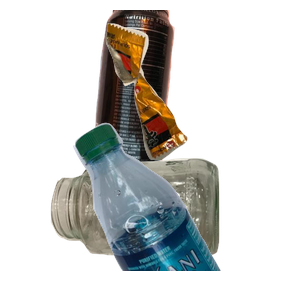glass: (48, 156, 260, 300)
metal: (91, 10, 258, 188)
plastic: (71, 120, 300, 300)
trash: (103, 21, 300, 174)
